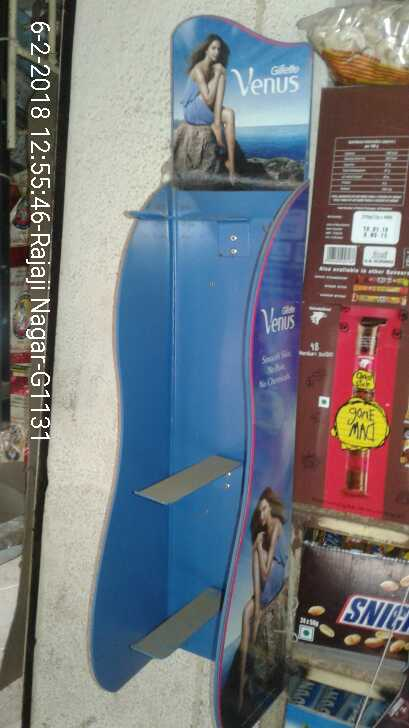reject: (151, 219, 293, 459)
